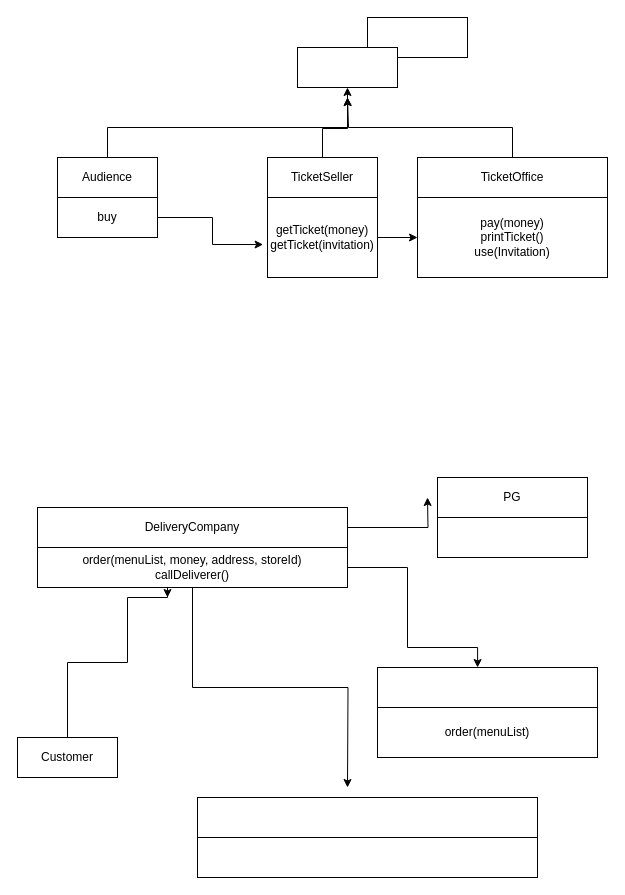
The diagram is 625 pixels wide and 895 high, and some of its shapes have lost their labels. Each missing label, with the box of its shape:
Deliverer: (196, 796, 538, 838)
deliverTo(fromAddress, toAddress, menuList): (196, 836, 538, 878)
Invitation: (296, 46, 398, 88)
pay(money, accountNumber): (436, 516, 588, 558)
Store: (376, 666, 598, 708)
Ticket: (366, 16, 468, 58)
